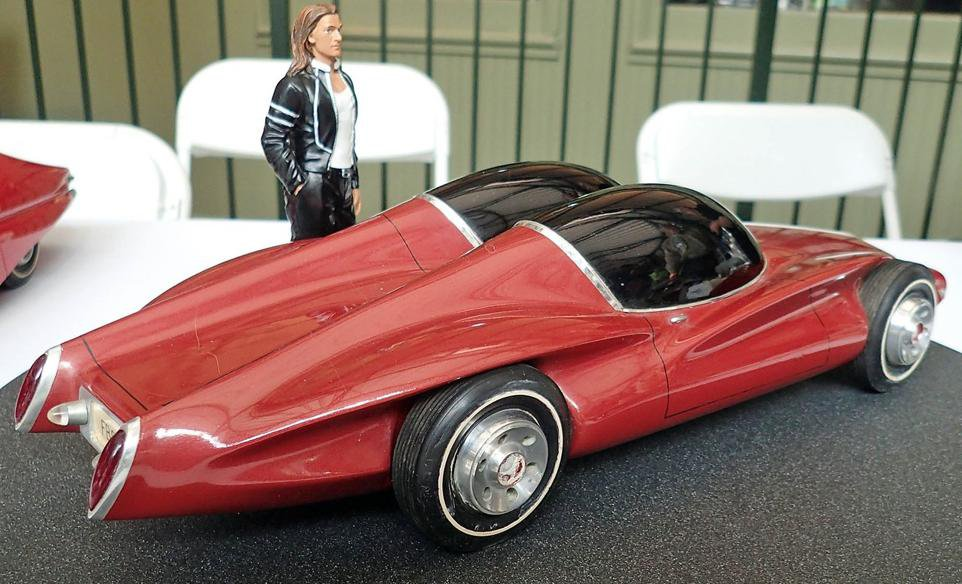car: (28, 156, 949, 533)
